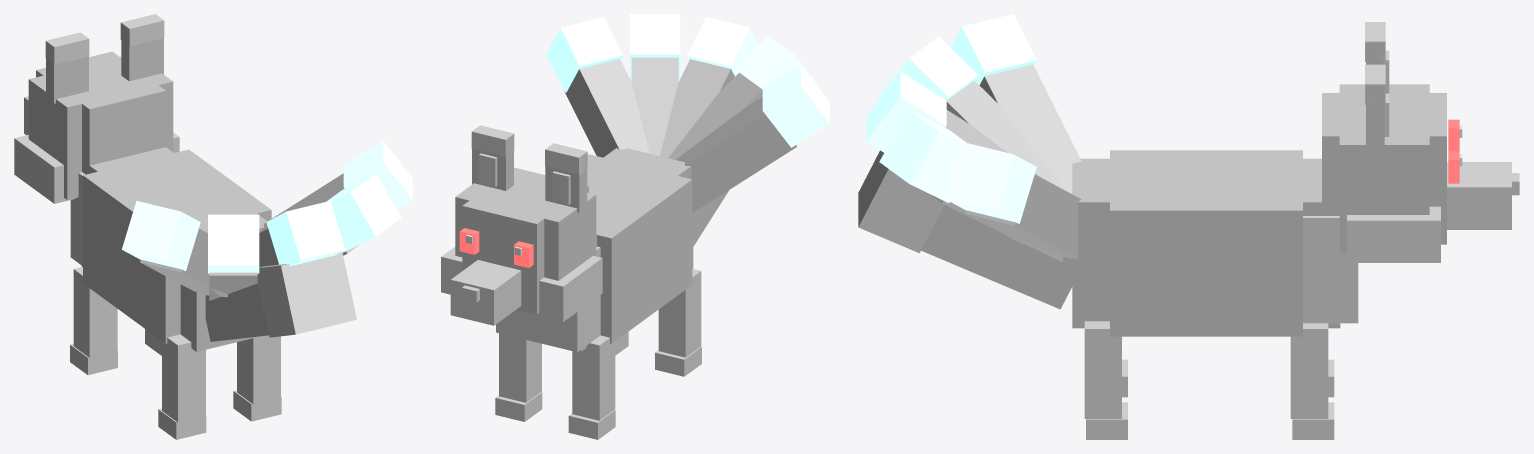
Rendered from Kitsune.fbx.
3 renders of one model, left to right at view 1: azimuth 30°, elevation 25°; view 2: azimuth 150°, elevation 25°; view 3: azimuth 270°, elevation 25°, orthographic. The views are drawn at different scales.
Parts seen in each view (by area): view 1: Kitsune_body_2, Kitsune_head_16, Kitsune_tail_31, Kitsune_body_0, Kitsune_head_15, Kitsune_body_3, Kitsune_tail_33, Kitsune_tail_37, Kitsune_legBL_9, Kitsune_tail_39, Kitsune_tail_35, Kitsune_legFL_5 (+19 smaller); view 2: Kitsune_body_2, Kitsune_tail_32, Kitsune_head_16, Kitsune_tail_40, Kitsune_head_15, Kitsune_body_0, Kitsune_tail_33, Kitsune_head_18, Kitsune_head_17, Kitsune_tail_38, Kitsune_body_3, Kitsune_legFL_5 (+23 smaller); view 3: Kitsune_body_2, Kitsune_body_0, Kitsune_body_3, Kitsune_head_15, Kitsune_tail_30, Kitsune_head_16, Kitsune_tail_32, Kitsune_body_4, Kitsune_tail_41, Kitsune_tail_31, Kitsune_head_17, Kitsune_tail_39 (+16 smaller).
Part boxes in pixels (<box>): Kitsune_body_2: <box>83,149,271,289</box>; Kitsune_head_16: <box>36,51,165,155</box>; Kitsune_tail_31: <box>257,251,356,337</box>; Kitsune_body_0: <box>83,229,180,343</box>; Kitsune_head_15: <box>28,57,173,153</box>; Kitsune_body_3: <box>82,147,267,297</box>; Kitsune_tail_33: <box>122,200,200,270</box>; Kitsune_tail_37: <box>266,200,345,266</box>; Kitsune_legBL_9: <box>162,334,205,422</box>; Kitsune_tail_39: <box>327,174,401,252</box>; Kitsune_tail_35: <box>208,214,259,273</box>; Kitsune_legFL_5: <box>73,267,117,357</box>; Kitsune_body_2: <box>587,154,692,290</box>; Kitsune_tail_32: <box>675,97,796,212</box>; Kitsune_head_16: <box>462,167,588,269</box>; Kitsune_tail_40: <box>565,59,649,157</box>; Kitsune_head_15: <box>455,174,596,267</box>; Kitsune_body_0: <box>600,232,692,343</box>; Kitsune_tail_33: <box>762,65,829,147</box>; Kitsune_head_18: <box>450,260,521,325</box>; Kitsune_head_17: <box>441,247,602,321</box>; Kitsune_tail_38: <box>631,57,678,155</box>; Kitsune_body_3: <box>587,148,693,246</box>; Kitsune_legFL_5: <box>572,335,615,420</box>; Kitsune_body_2: <box>1110,150,1302,273</box>; Kitsune_body_0: <box>1110,273,1302,336</box>; Kitsune_body_3: <box>1072,158,1339,265</box>; Kitsune_head_15: <box>1339,84,1429,198</box>; Kitsune_tail_30: <box>921,205,1072,309</box>; Kitsune_head_16: <box>1322,93,1446,190</box>; Kitsune_tail_32: <box>979,64,1081,193</box>; Kitsune_body_4: <box>1303,216,1358,323</box>; Kitsune_tail_41: <box>945,142,1036,223</box>; Kitsune_tail_31: <box>858,150,944,253</box>; Kitsune_head_17: <box>1347,206,1440,262</box>; Kitsune_tail_39: <box>879,110,966,202</box>.
Size of the model in its own units: 209 by 210 by 353.
